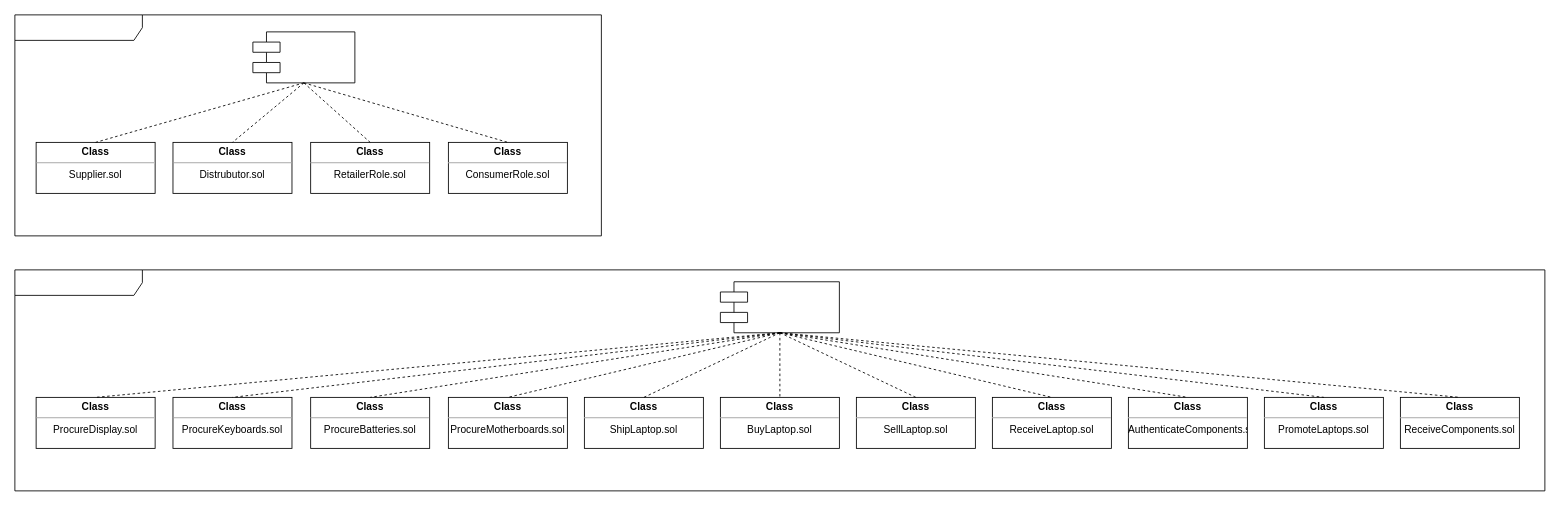
This 1560x506 diagram has some shape labels left out. The box of each missing label's shape, as (x1, y1, x2, y2) in pixels:
LaptopsAccessControl: (14, 14, 601, 236)
Roles.sol: (252, 31, 355, 83)
SupplyChain.sol: (720, 281, 839, 333)
SupplyChainBase: (14, 269, 1545, 491)
